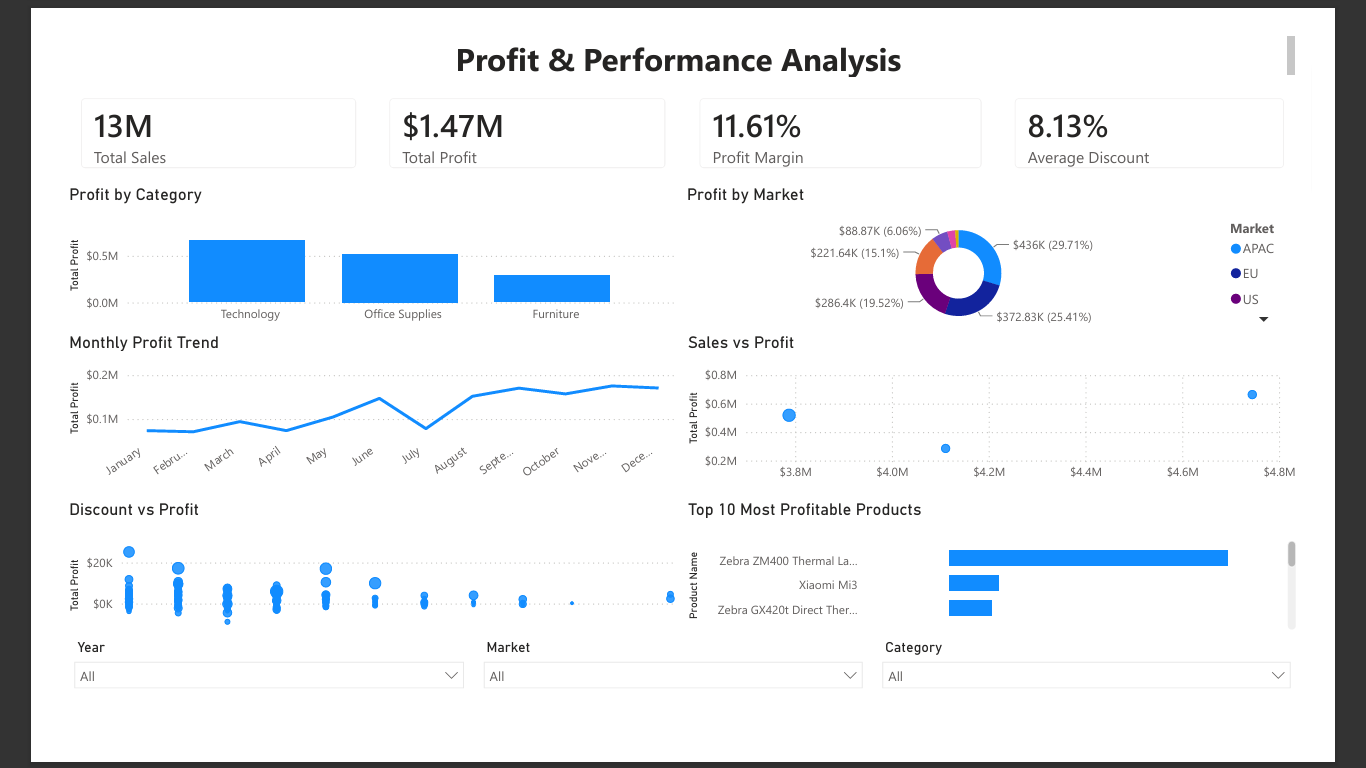

The page's visual inventory and layout, read from the dashboard file:
{"tool":"powerbi","page":{"name":"Profit & Performance Analysis","canvas":[1280,720],"ordinal":4},"visuals":[{"type":"textbox","box":[9.6,0,1259.4,50.9],"z":0},{"type":"cardVisual","fields":{"Data":["superstore.Total Sales"]},"box":[9.6,50.9,313.8,104.6],"z":0,"group":"g1"},{"type":"lineChart","title":"Monthly Profit Trend","fields":{"Category":["Calendar.Date.Variation.Date Hierarchy.Month"],"Y":["superstore.Total Profit"]},"box":[9.6,305.5,629,161],"z":0,"group":"g4"},{"type":"scatterChart","title":"Discount vs Profit","fields":{"X":["Sum(superstore.Discount)"],"Y":["superstore.Total Profit"],"Category":["superstore.Product Name"],"Size":["superstore.Total Sales"]},"box":[9.6,476.2,629,137.6],"z":0,"group":"g3"},{"type":"slicer","fields":{"Values":["Calendar.Date.Variation.Date Hierarchy.Year"]},"box":[9.6,613.8,417,115.8],"z":0,"group":"g2"},{"type":"cardVisual","fields":{"Data":["superstore.Total Profit"]},"box":[323.4,50.9,315.2,104.6],"z":1000,"group":"g1"},{"type":"clusteredColumnChart","title":"Profit by Category","fields":{"Category":["superstore.Category"],"Y":["superstore.Total Profit"]},"box":[9.6,155.5,630.4,150],"z":1000},{"type":"scatterChart","title":"Sales vs Profit","fields":{"X":["superstore.Total Sales"],"Y":["superstore.Total Profit"],"Category":["superstore.Category"],"Size":["superstore.Total Orders"]},"box":[640,305.5,629,161],"z":1000,"group":"g4"},{"type":"clusteredBarChart","title":"Top 10 Most Profitable Products","fields":{"Y":["superstore.Total Profit"],"Category":["superstore.Product Name"]},"box":[640,476.2,629,137.6],"z":1000,"group":"g3"},{"type":"slicer","fields":{"Values":["superstore.Market"]},"box":[426.6,613.8,406,115.8],"z":1000,"group":"g2"},{"type":"group","id":"g1","title":"Group 1","box":[9.6,50.9,1259.4,104.6],"z":2000},{"type":"cardVisual","fields":{"Data":["superstore.Profit Margin"]},"box":[640,50.9,320.7,104.6],"z":2000,"group":"g1"},{"type":"slicer","fields":{"Values":["superstore.Category"]},"box":[832.7,613.8,436.3,115.8],"z":2000,"group":"g2"},{"type":"cardVisual","fields":{"Data":["superstore.Average Discount"]},"box":[960.7,50.9,308.3,104.6],"z":3000,"group":"g1"},{"type":"donutChart","title":"Profit by Market","fields":{"Category":["superstore.Market"],"Y":["superstore.Total Profit"]},"box":[638.6,155.5,630.4,150],"z":3000},{"type":"group","id":"g2","title":"Group 2","box":[9.6,613.8,1259.4,101.8],"z":4000},{"type":"group","id":"g3","title":"Group 3","box":[9.6,476.2,1259.4,137.6],"z":5000},{"type":"group","id":"g4","title":"Group 4","box":[9.6,305.5,1259.4,161],"z":6000}]}

Visuals, with their boxes in screenshot pixels (x1, y1, x2, y2), scaled from the page's 1280x720 canvas onto the 1366x768 screenshot:
textbox: 10/0/1354/54
cardVisual - superstore.Total Sales: 10/54/345/166
"Monthly Profit Trend" lineChart: 10/326/682/498
"Discount vs Profit" scatterChart: 10/508/682/655
slicer - Calendar.Date.Variation.Date Hierarchy.Year: 10/655/455/767
cardVisual - superstore.Total Profit: 345/54/682/166
"Profit by Category" clusteredColumnChart: 10/166/683/326
"Sales vs Profit" scatterChart: 683/326/1354/498
"Top 10 Most Profitable Products" clusteredBarChart: 683/508/1354/655
slicer - superstore.Market: 455/655/889/767
"Group 1" group: 10/54/1354/166
cardVisual - superstore.Profit Margin: 683/54/1025/166
slicer - superstore.Category: 889/655/1354/767
cardVisual - superstore.Average Discount: 1025/54/1354/166
"Profit by Market" donutChart: 682/166/1354/326
"Group 2" group: 10/655/1354/763
"Group 3" group: 10/508/1354/655
"Group 4" group: 10/326/1354/498
